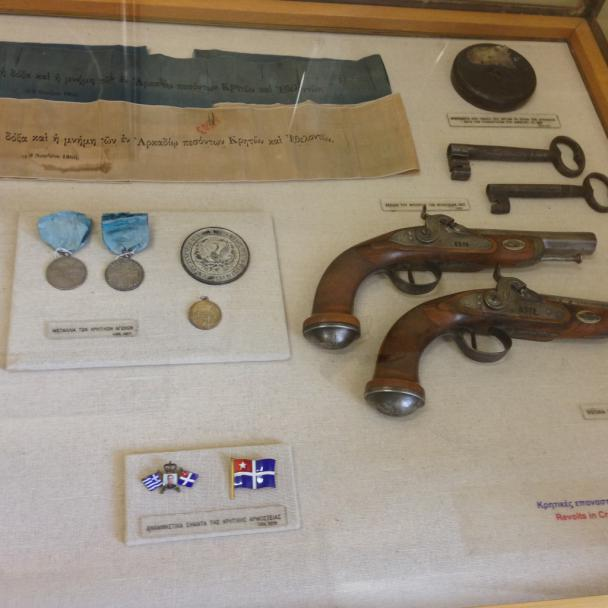Gun: (294, 210, 604, 349), (365, 269, 607, 421)
